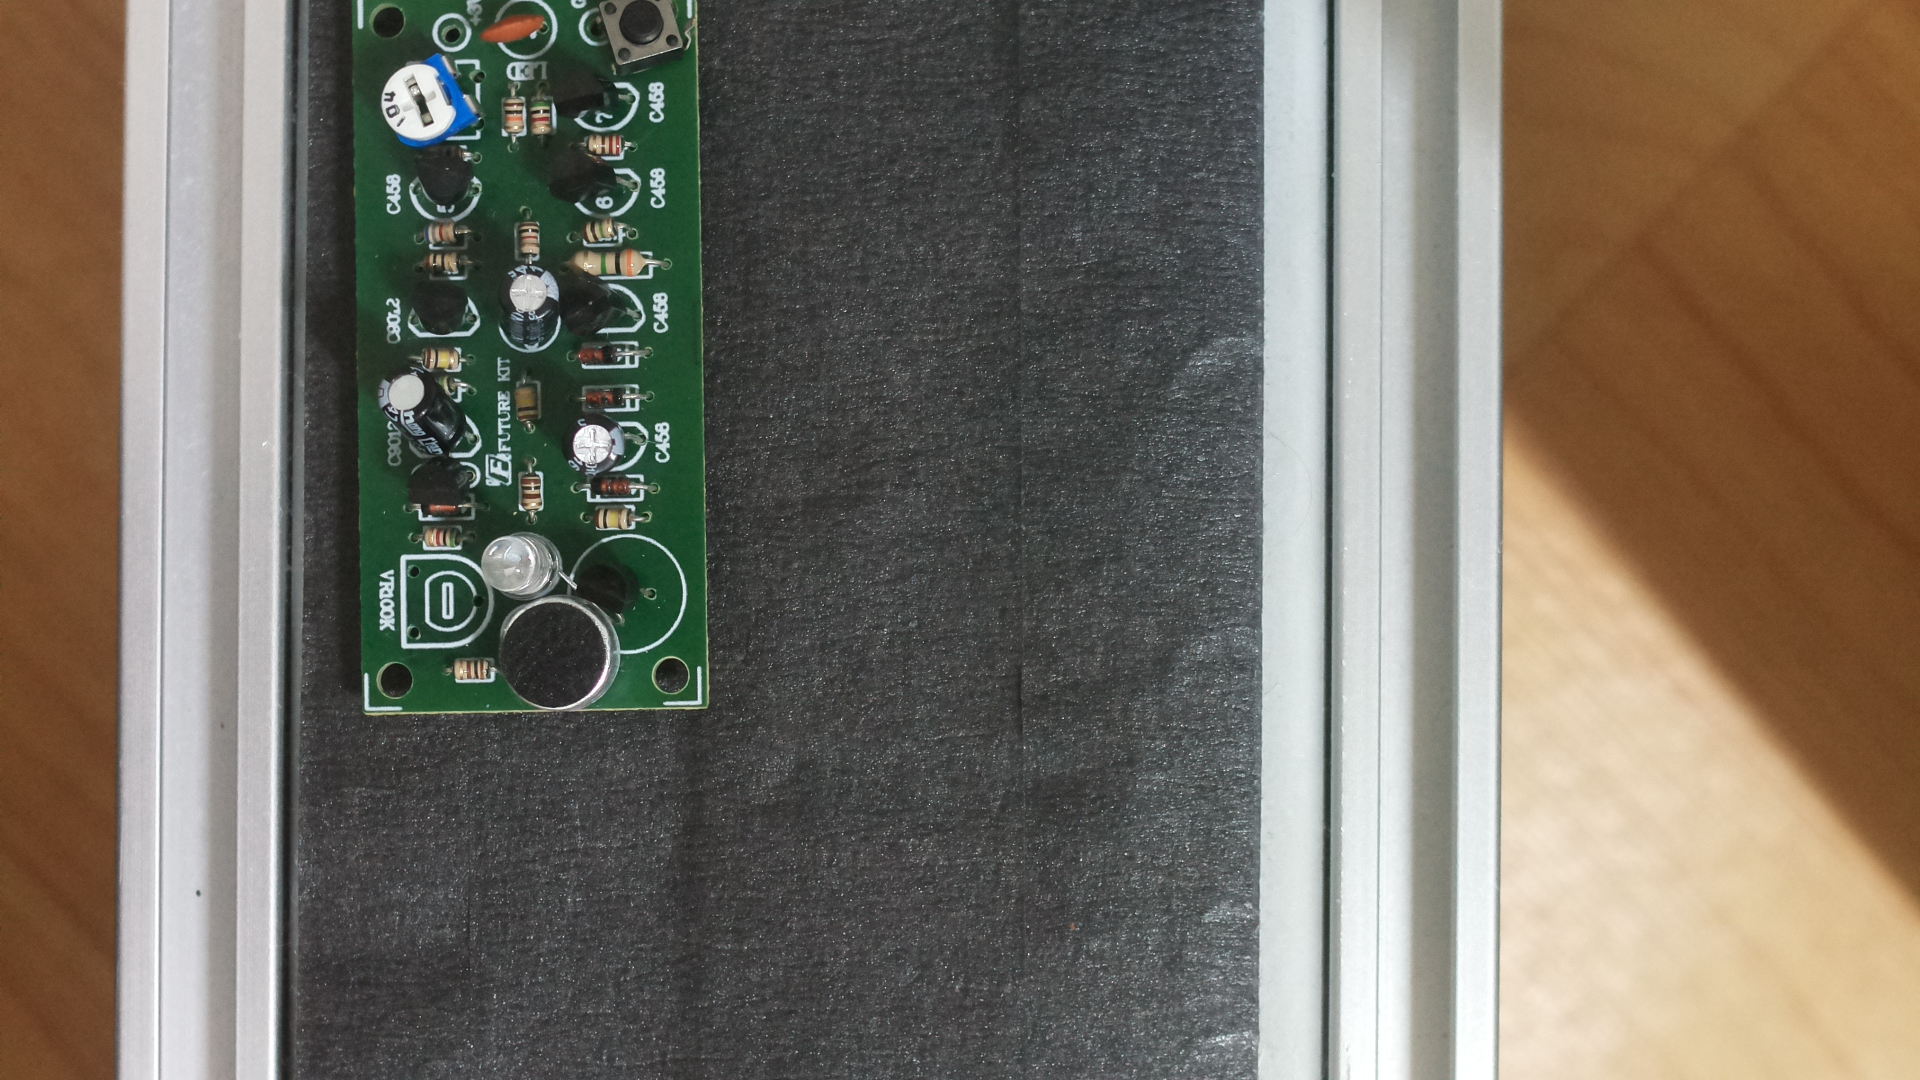A_Misordered: (342, 0, 735, 737)
